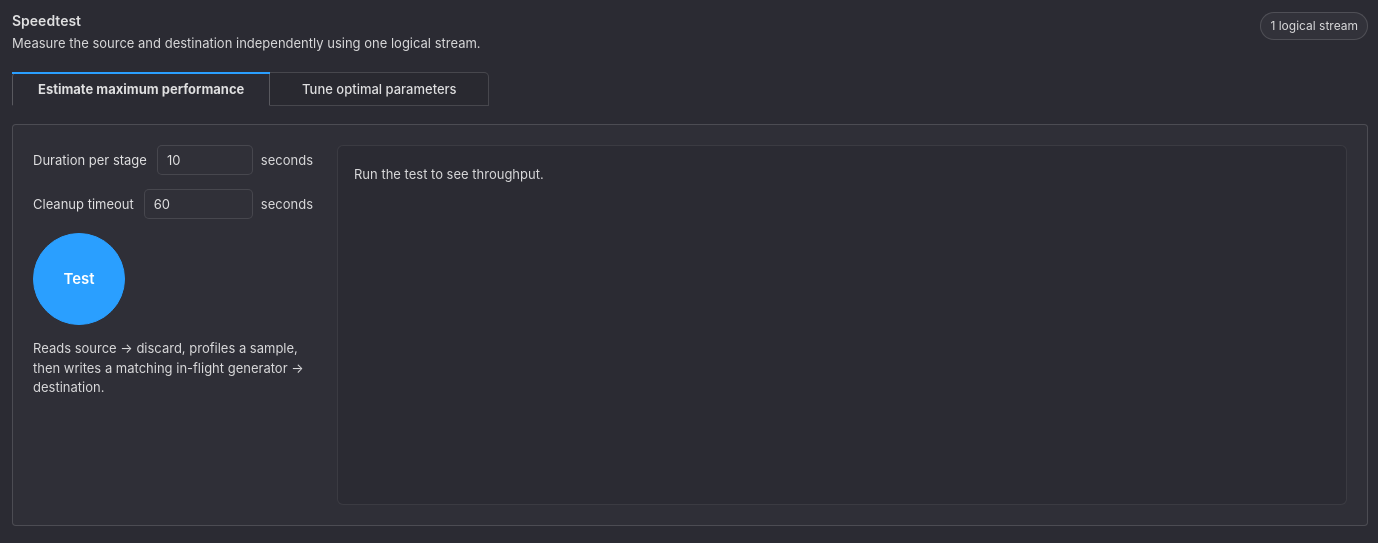
Scenario: SpeedtestWorkspace › surfaces server failures in the reserved result region
What coordinates should you click on to do the following:
click the button "Test"
I would click on:
 (79, 279)
Its box is top-left (33, 233), bottom-right (125, 325).
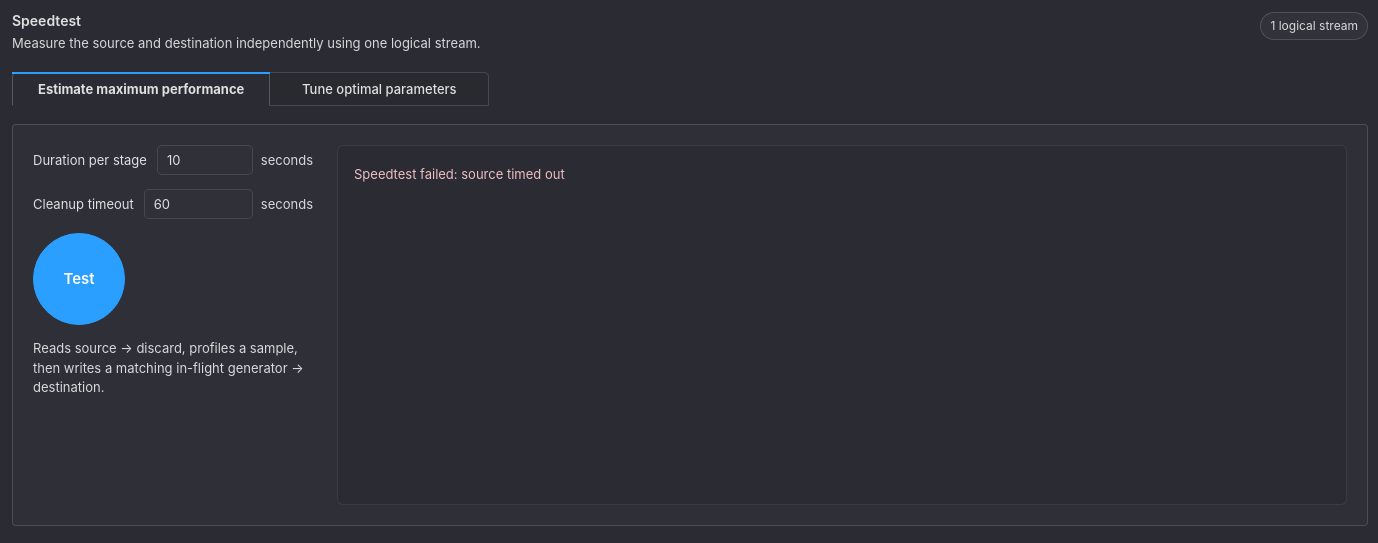
Check: the message shows "source timed out", box top-left (461, 166), bottom-right (565, 182)
